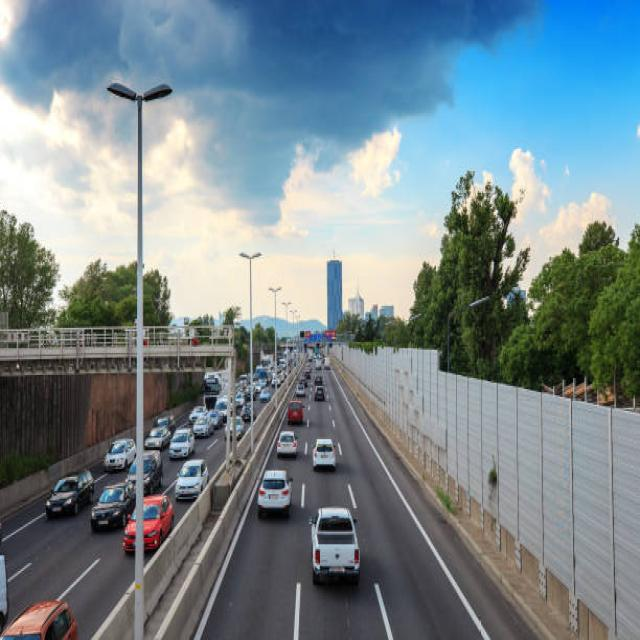Car: (308, 505, 359, 585), (0, 599, 77, 638), (44, 469, 94, 518), (256, 469, 293, 518), (312, 438, 336, 470)
Traffic-light: (191, 336, 199, 345)
